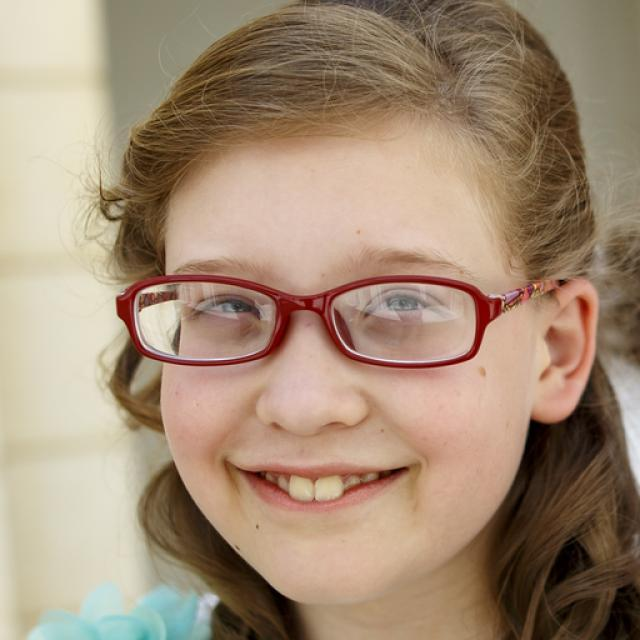happy: (158, 145, 532, 606)
